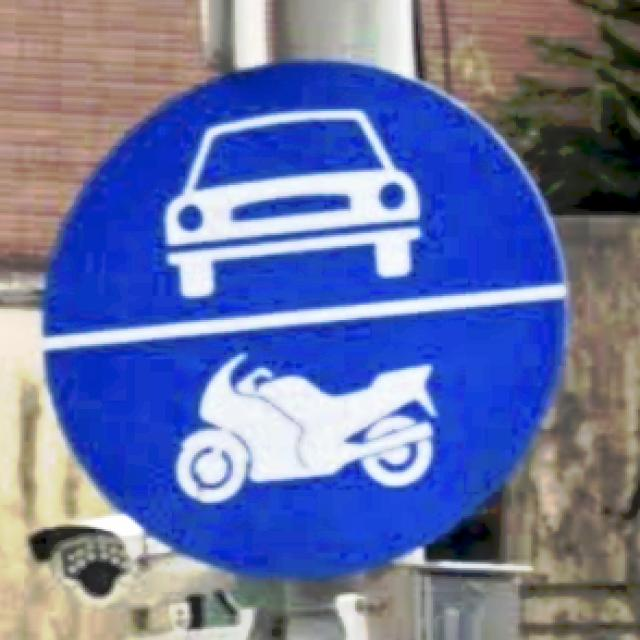carmotorcycle: (39, 59, 570, 583)
